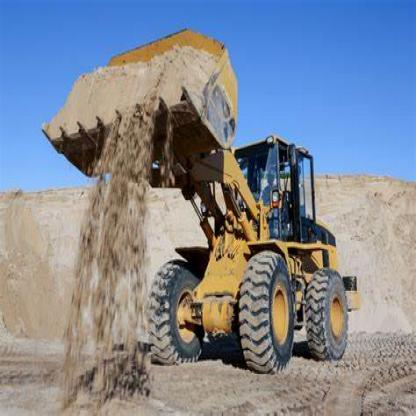bull_dozer/loader/grader: (42, 11, 366, 379)
